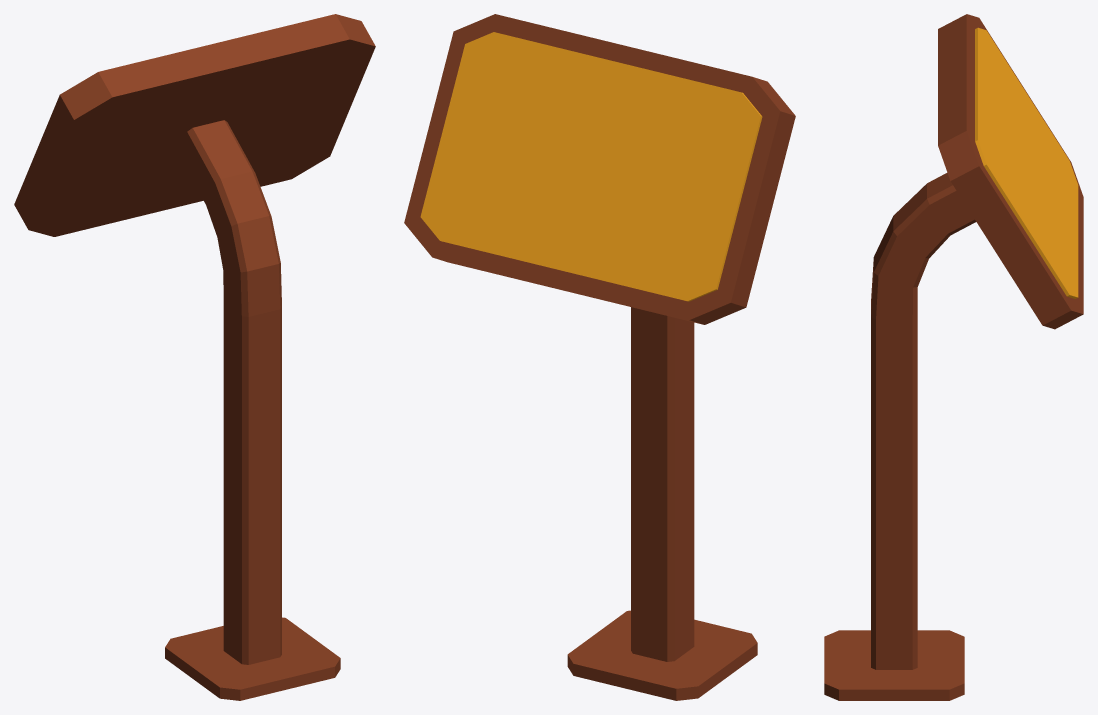
The model's file is Cartel_Informacion01.fbx.
The picture shows the model from 3 angles, left to right: view 1: azimuth 30°, elevation 25°; view 2: azimuth 150°, elevation 25°; view 3: azimuth 270°, elevation 25°; orthographic projection. The views are drawn at different scales.
Visible parts, largest first — view 1: Cartel_Informacion01_v1; view 2: Cartel_Informacion01_v1; view 3: Cartel_Informacion01_v1.
Part boxes in pixels (x1,y1,x2,y2): Cartel_Informacion01_v1: (14,14,375,700); Cartel_Informacion01_v1: (404,14,795,700); Cartel_Informacion01_v1: (824,14,1083,700).
Bounding box in the file's own units: 52.73 × 99.3 × 39.01.
